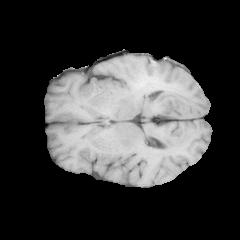glioma: (121, 58, 167, 101)
